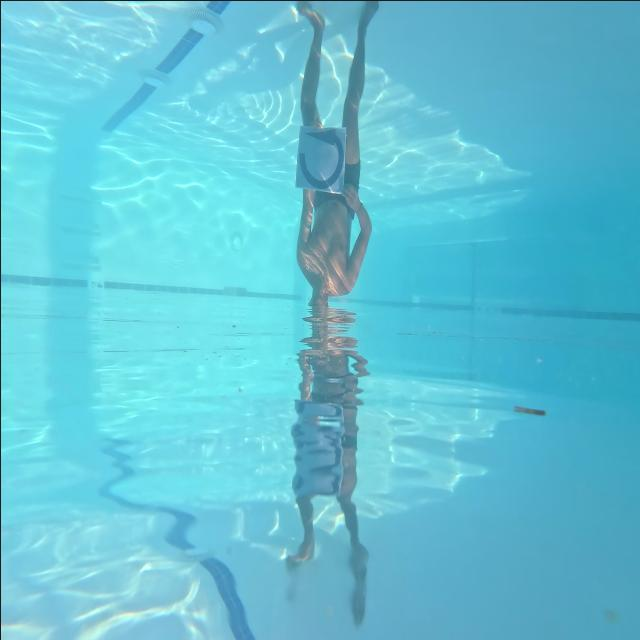blue_side: (294, 123, 348, 201)
